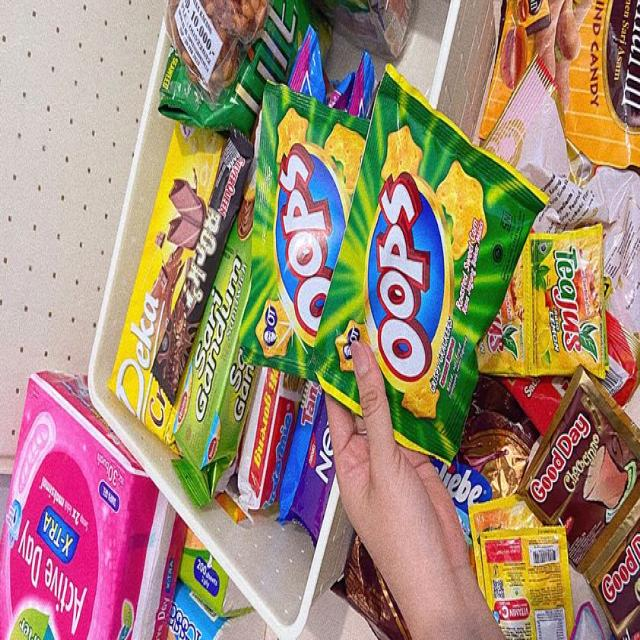KemasanPlastik: (241, 56, 549, 474)
